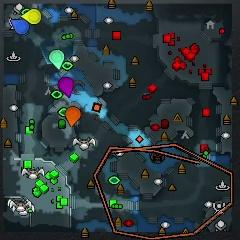p1: (11, 18, 29, 36)
p2: (49, 50, 64, 70)
p3: (58, 76, 74, 98)
p4: (20, 8, 42, 25)
p5: (65, 106, 81, 126)
